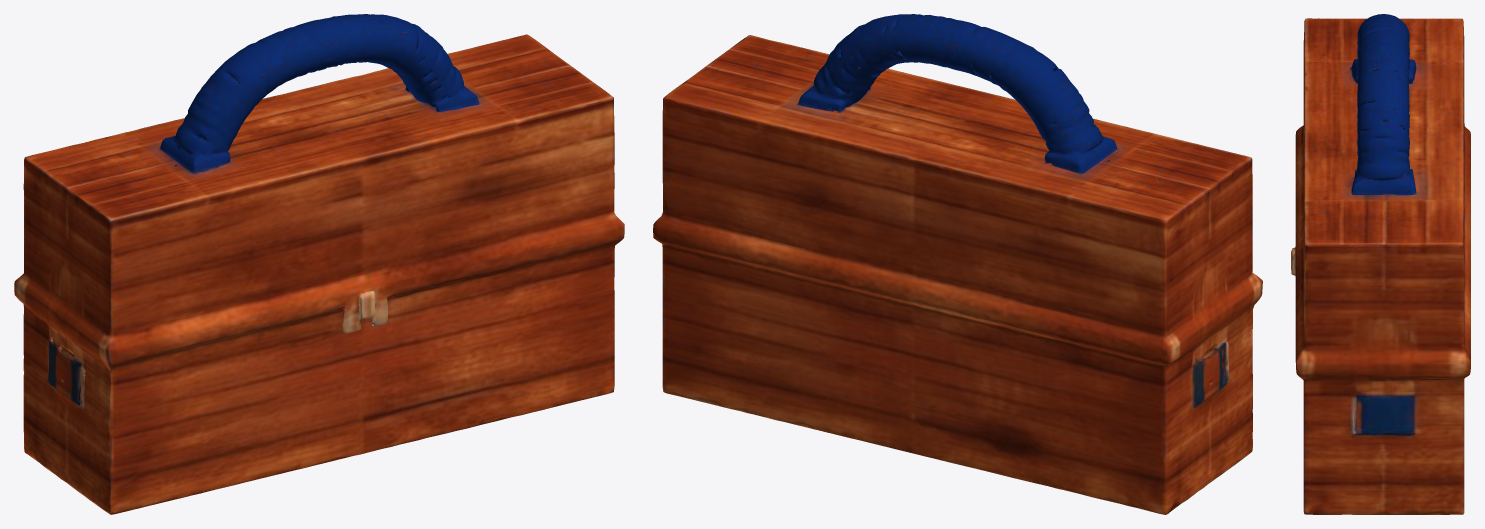
The model's file is wooden_4.glb.
3 renders of one model, left to right at view 1: azimuth 30°, elevation 25°; view 2: azimuth 150°, elevation 25°; view 3: azimuth 270°, elevation 25°, orthographic. The views are drawn at different scales.
Visible parts, largest first — view 1: geometry_0; view 2: geometry_0; view 3: geometry_0.
Part boxes in pixels (bbox=[...]): geometry_0: bbox=[14, 14, 624, 514]; geometry_0: bbox=[653, 14, 1262, 514]; geometry_0: bbox=[1291, 14, 1470, 514].
Bounding box in the file's own units: 1 × 0.7498 × 0.3294.
1 material, 1 textured.
